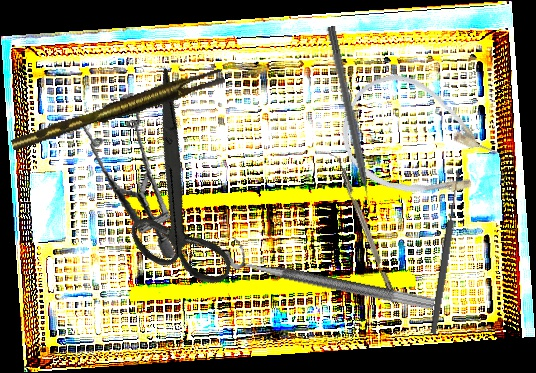Cannula: (325, 58, 511, 226)
Chopper: (326, 148, 398, 307)
Fixation Ring: (222, 235, 439, 312)
Iris Scissors: (60, 67, 293, 310)
Pusher: (324, 25, 376, 216)
Speculum: (55, 85, 200, 259)
Surgical Spoon: (428, 172, 464, 335)
Tissue Forceps: (7, 67, 228, 151)
